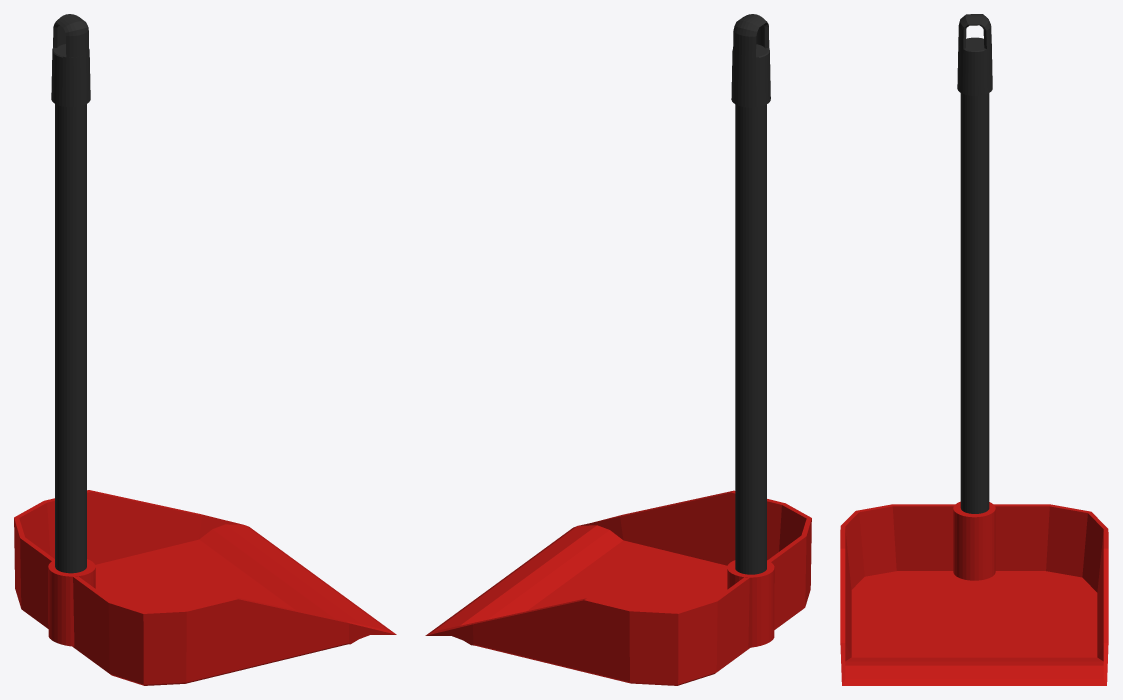
File: obj_pala_207524.glb
3 views of the same model, side by side, from view 1: azimuth 30°, elevation 25°; view 2: azimuth 150°, elevation 25°; view 3: azimuth 270°, elevation 25° (orthographic). The views are drawn at different scales.
Visible parts, largest first — view 1: obj_pala_207524; view 2: obj_pala_207524; view 3: obj_pala_207524.
Boxes of the visible parts, x1,y1,x2,y2 form: obj_pala_207524: (14,14,396,685); obj_pala_207524: (425,14,811,685); obj_pala_207524: (840,14,1108,685).
Size of the model in its own units: 0.1366 by 0.3 by 0.1302.
